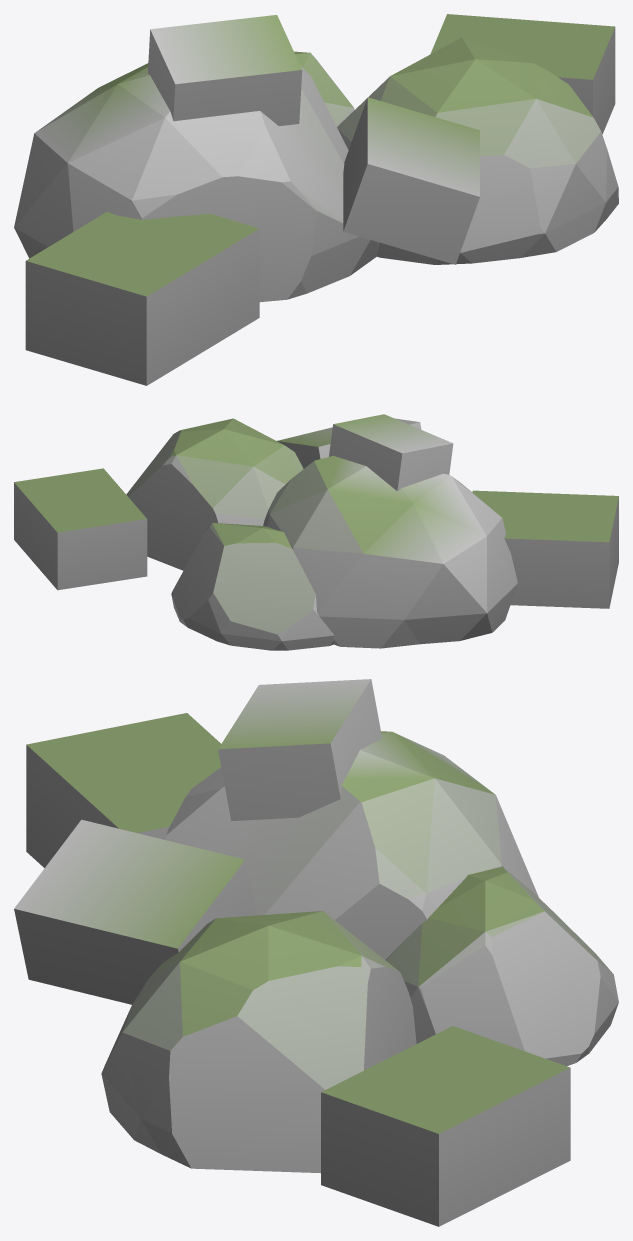
File: rubble.glb
The picture shows the model from 3 angles, top to bottom: view 1: azimuth 30°, elevation 25°; view 2: azimuth 150°, elevation 25°; view 3: azimuth 270°, elevation 25°; orthographic projection. The views are drawn at different scales.
Parts seen in each view (by area): view 1: rubble; view 2: rubble; view 3: rubble.
Boxes of the visible parts, x1,y1,x2,y2 form: rubble: [14, 14, 618, 385]; rubble: [14, 414, 618, 650]; rubble: [14, 679, 618, 1226].
Size of the model in its own units: 1.46 by 0.4347 by 0.9205.
